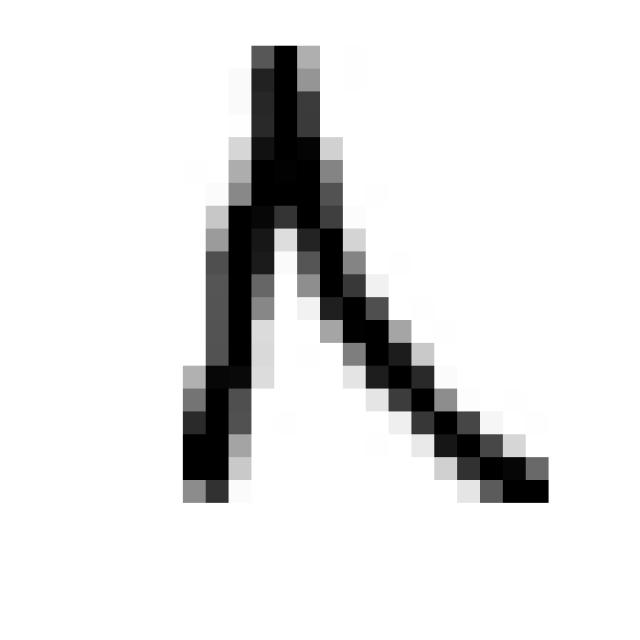8 -eight-: (146, 16, 570, 530)
